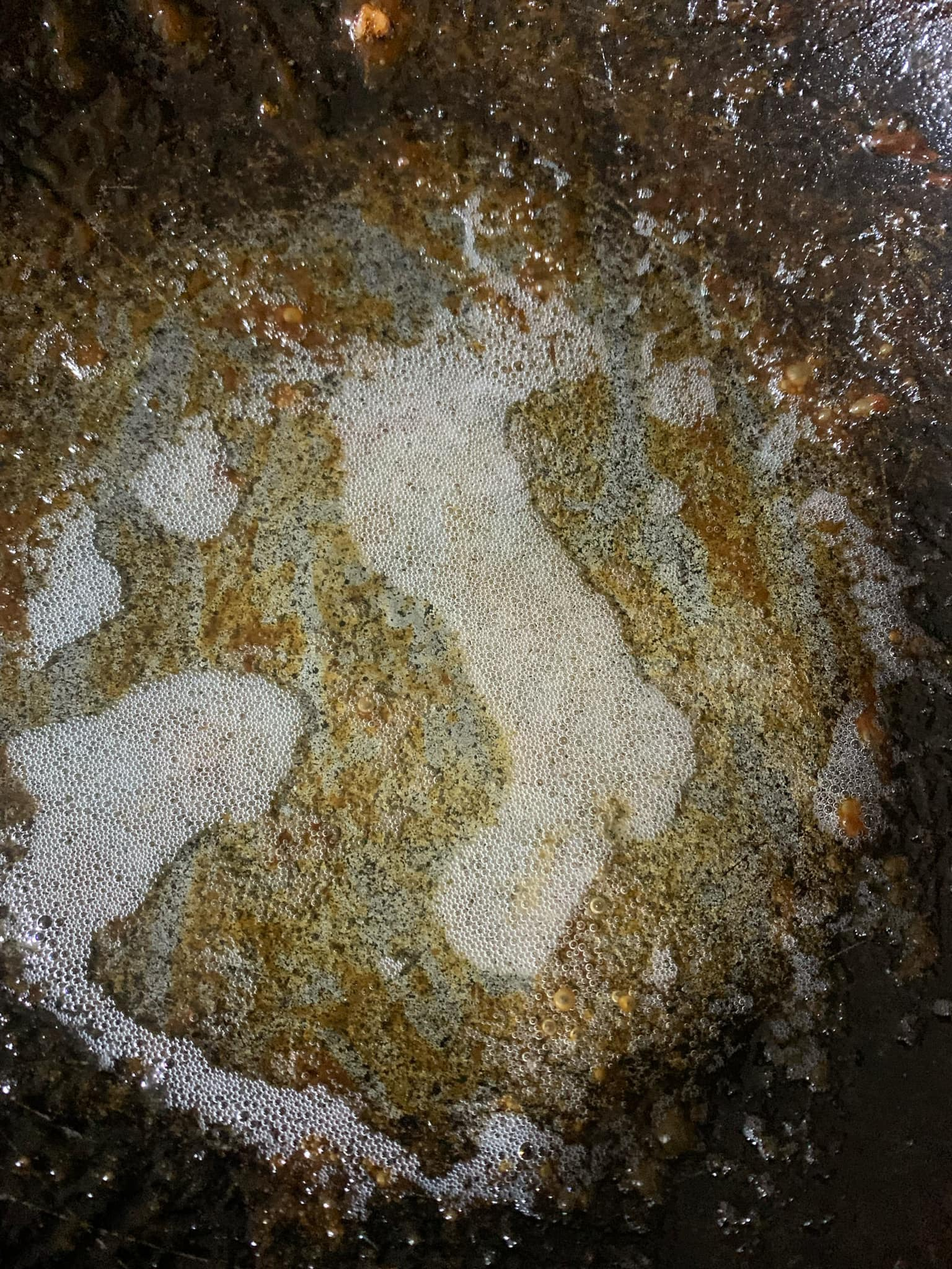non-reusable: (0, 158, 889, 1196)
